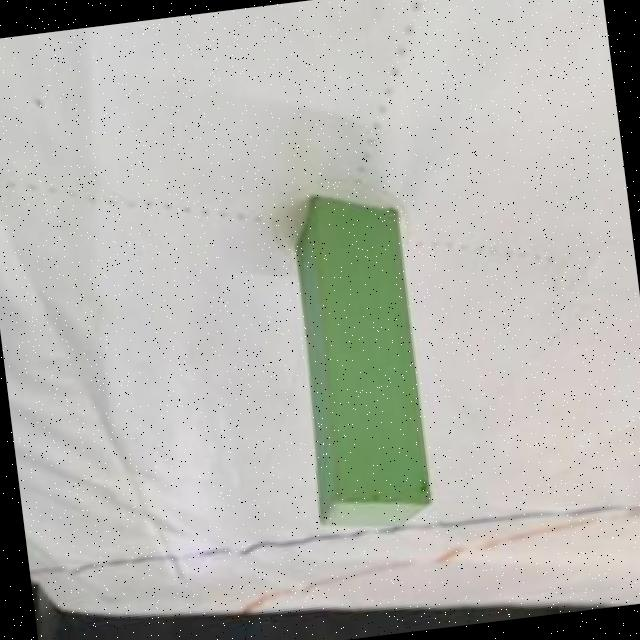greenbox: (276, 182, 440, 544)
